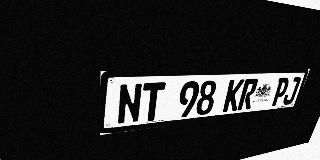8: (195, 80, 218, 116)
9: (176, 81, 201, 118)
J: (281, 77, 302, 105)
K: (222, 79, 245, 112)
N: (117, 83, 143, 125)
P: (270, 77, 291, 106)
R: (237, 78, 259, 110)
T: (140, 82, 166, 122)
